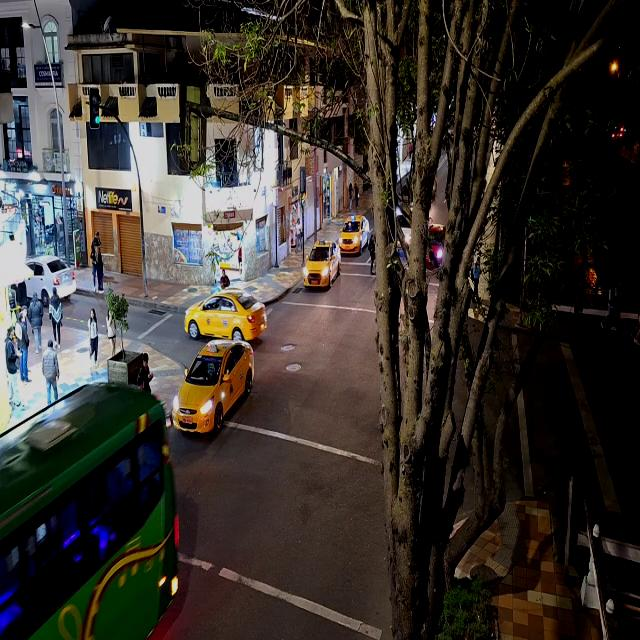BUS: (0, 389, 172, 638)
SED: (176, 340, 250, 431), (187, 291, 267, 337), (304, 243, 340, 289), (341, 218, 366, 255)
